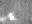person: (8, 14, 15, 21), (1, 18, 5, 22)
